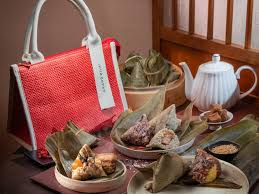zongzi: (122, 105, 179, 149), (71, 144, 116, 180), (190, 149, 220, 183)
